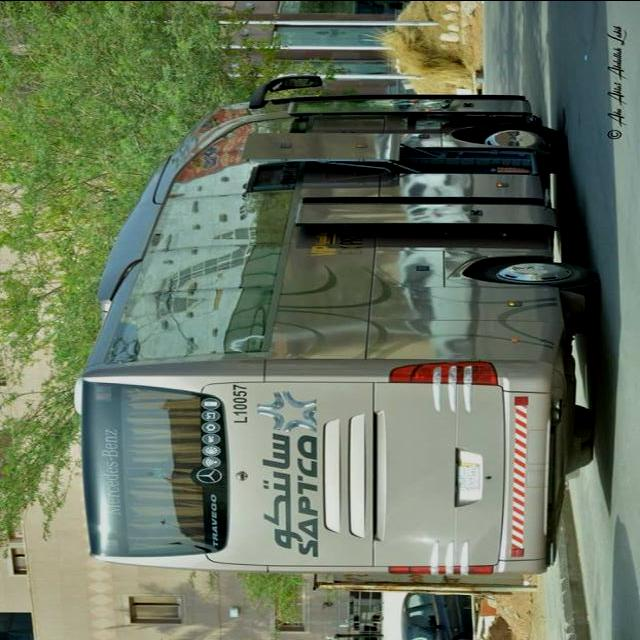bus: (74, 72, 603, 574)
